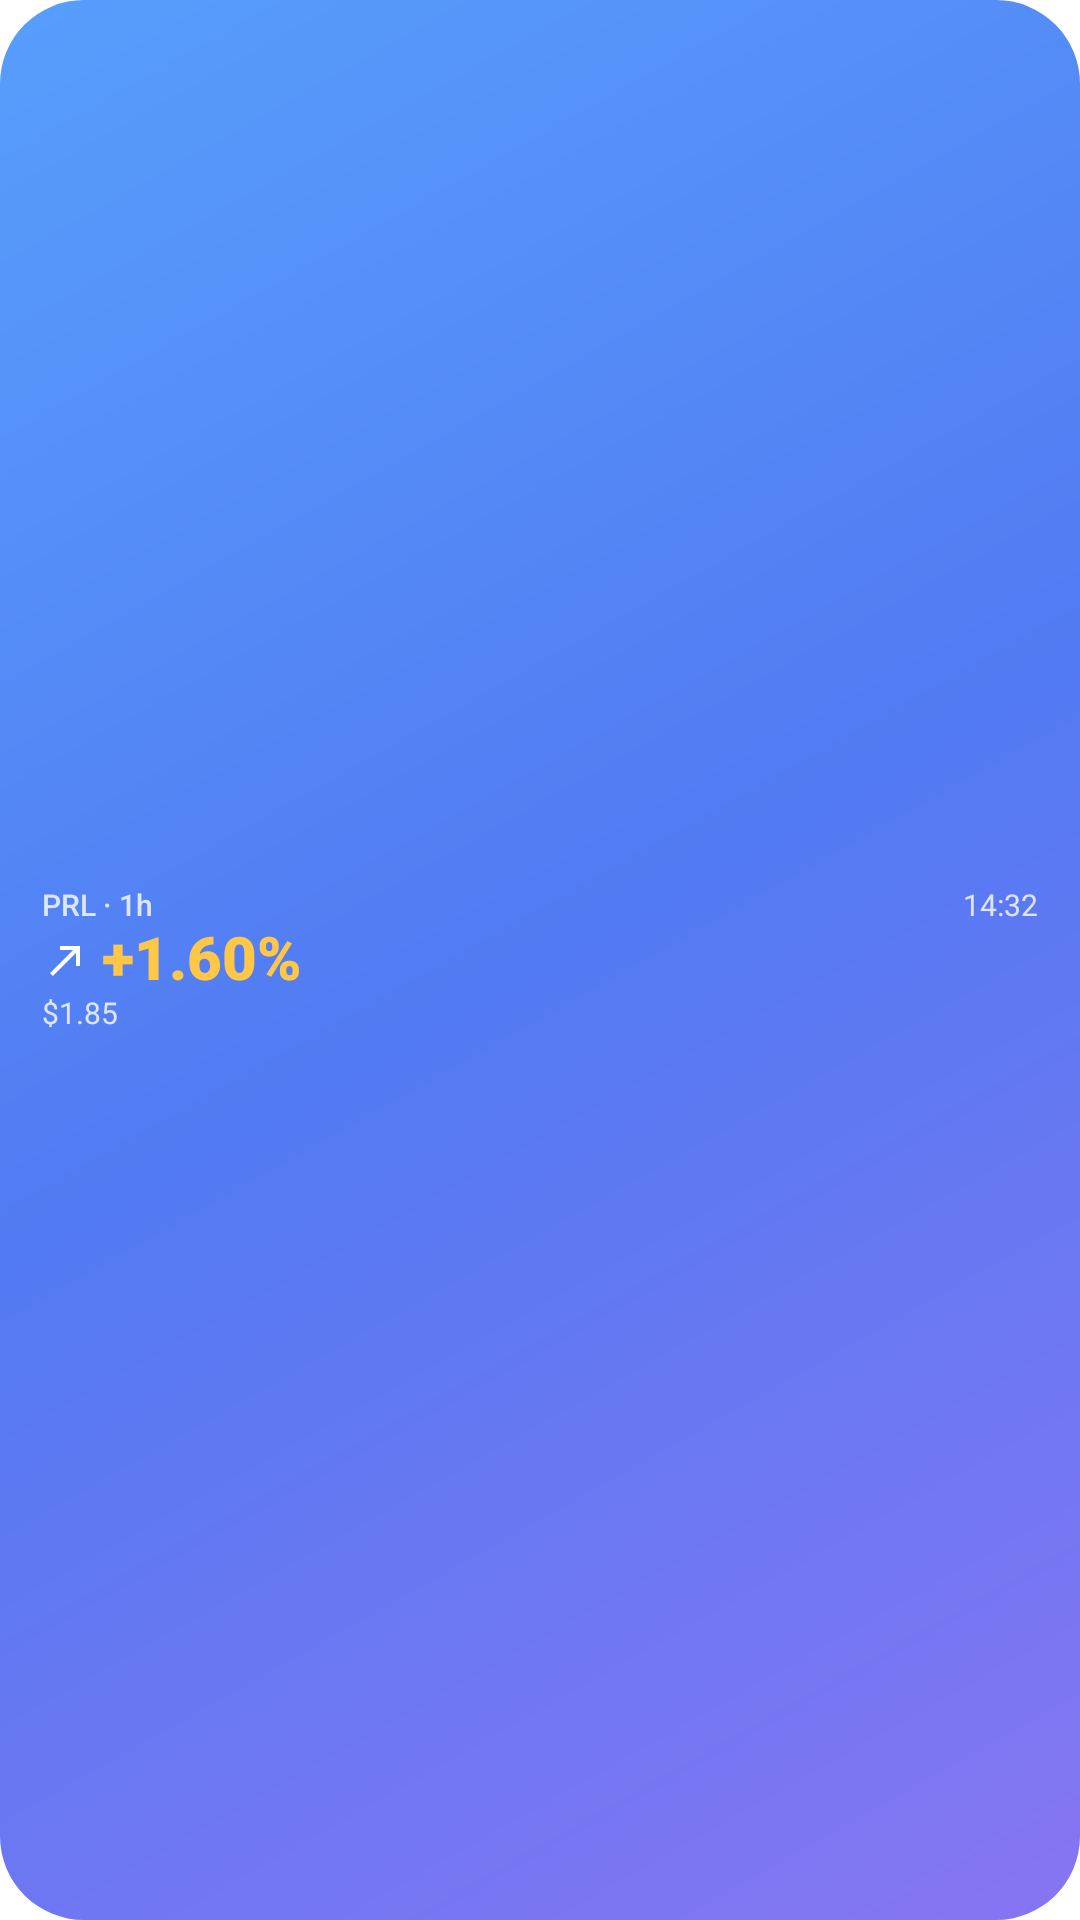

Where to tap for icons on this 1080w x 1920h app screen, as (x=x, y=y):
widget trend up: (x=65, y=961)
